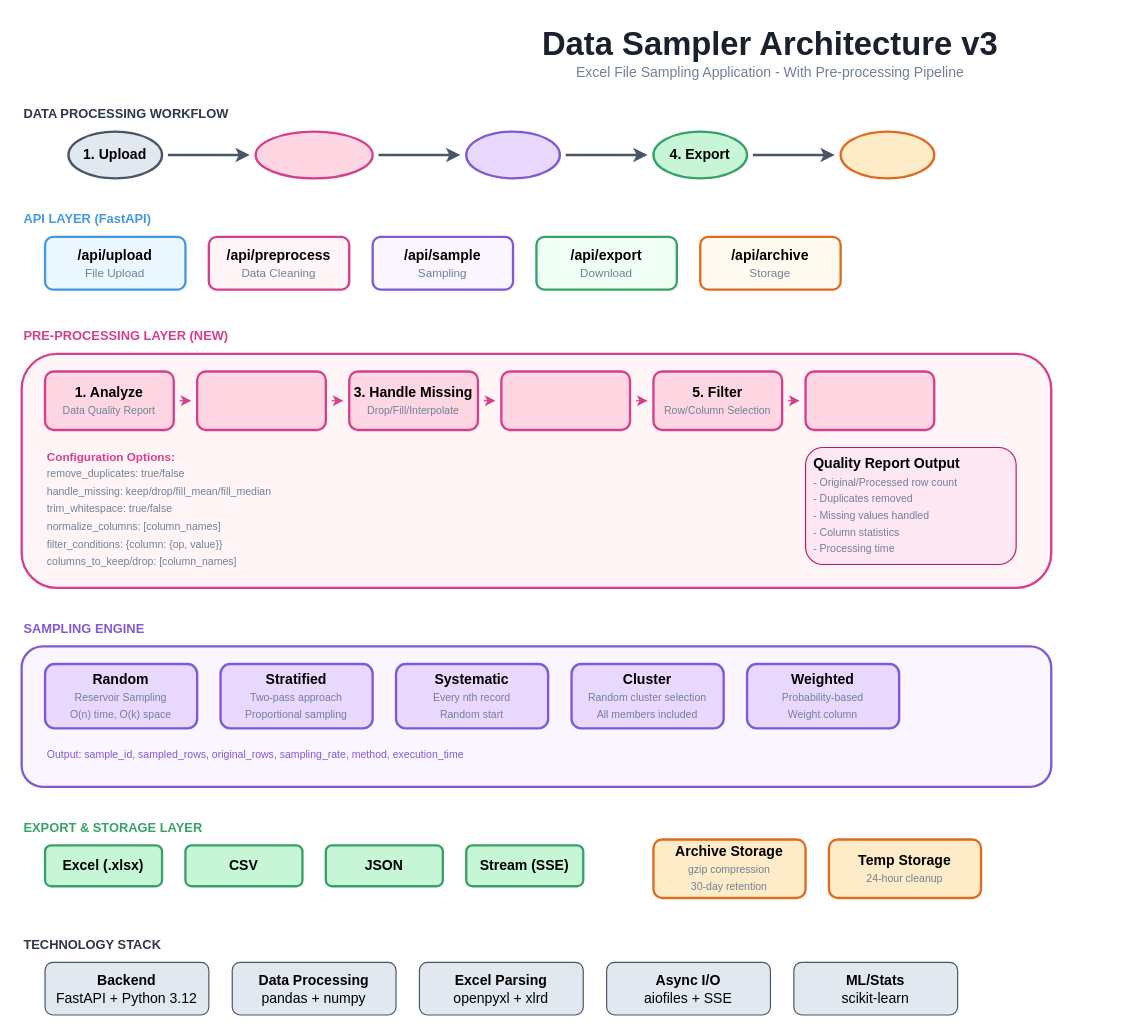
The diagram is 1141 pixels wide and 1035 high, and some of its shapes have lost their labels. The shapes that lost their labels are listed below. From the top down, each one's centre as x and y in pixels, then its label:
At point (313, 154): "2. Pre-process".
At point (512, 154): "3. Sample".
At point (887, 154): "5. Archive".
At point (260, 400): "2. Clean Remove Duplicates Trim Whitespace".
At point (565, 400): "4. Transform Type Conversion Normalization".
At point (869, 400): "6. Validate Quality Check".
